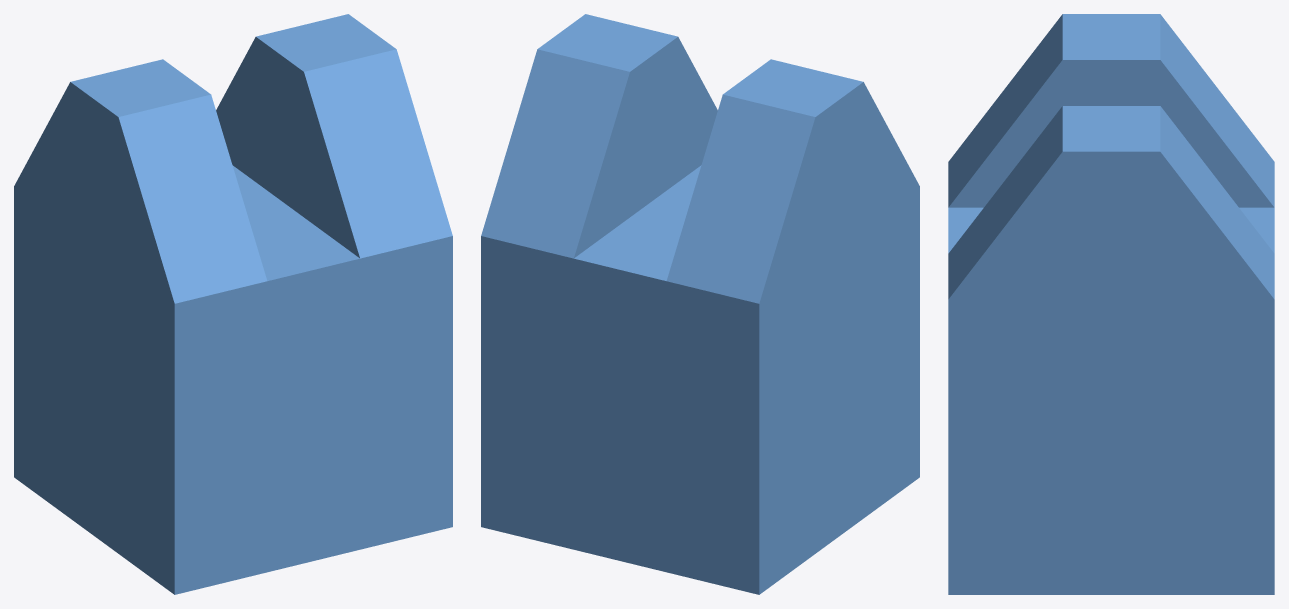
File: ding_export.glb
3 views of the same model, side by side, from view 1: azimuth 30°, elevation 25°; view 2: azimuth 150°, elevation 25°; view 3: azimuth 270°, elevation 25° (orthographic).
Visible parts, largest first — view 1: Cube; view 2: Cube; view 3: Cube.
Part boxes in pixels (x1=…): Cube: x1=14, y1=14, x2=452, y2=594; Cube: x1=481, y1=14, x2=919, y2=594; Cube: x1=948, y1=14, x2=1274, y2=594.
Bounding box in the file's own units: 1 × 1.5 × 1.
